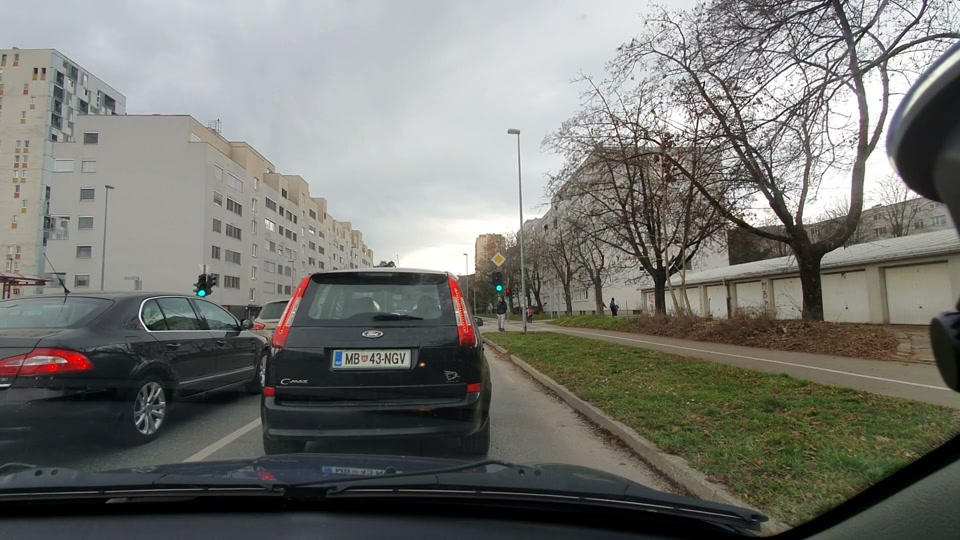vehicle_ign: (264, 261, 514, 479), (3, 273, 264, 452)
